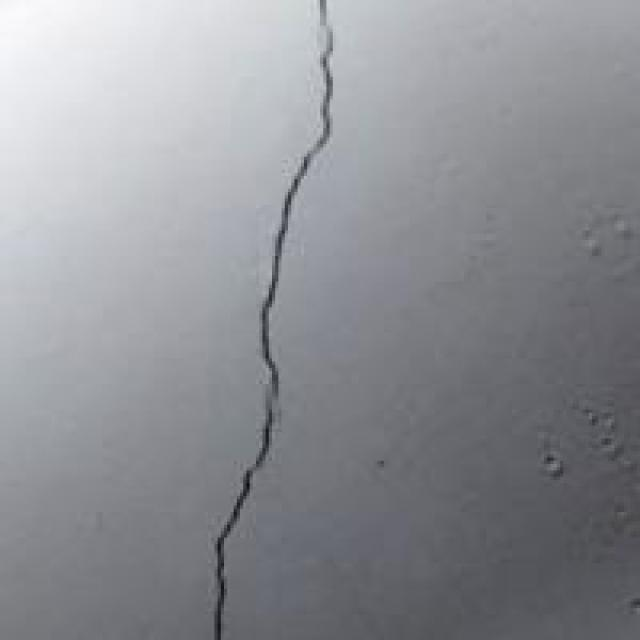crack: (192, 0, 378, 637)
